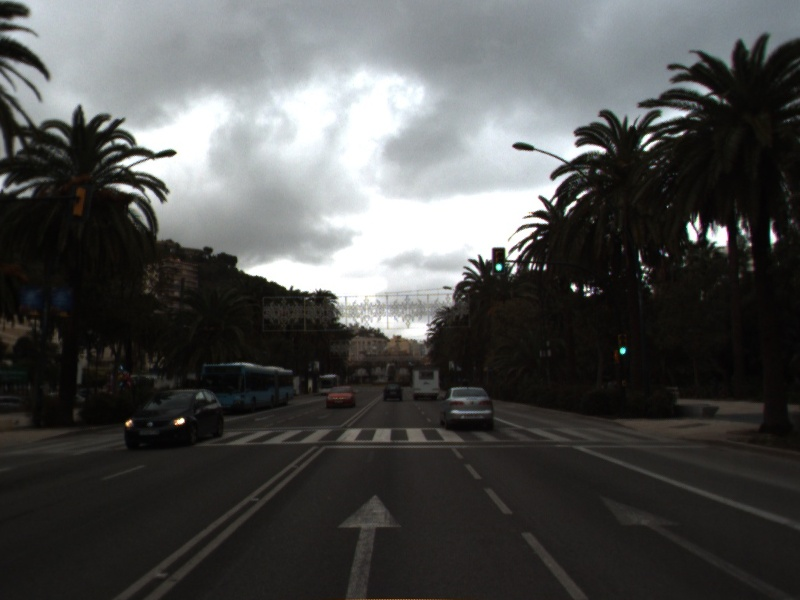STRAIGHT: (593, 490, 796, 600), (333, 491, 406, 600)
